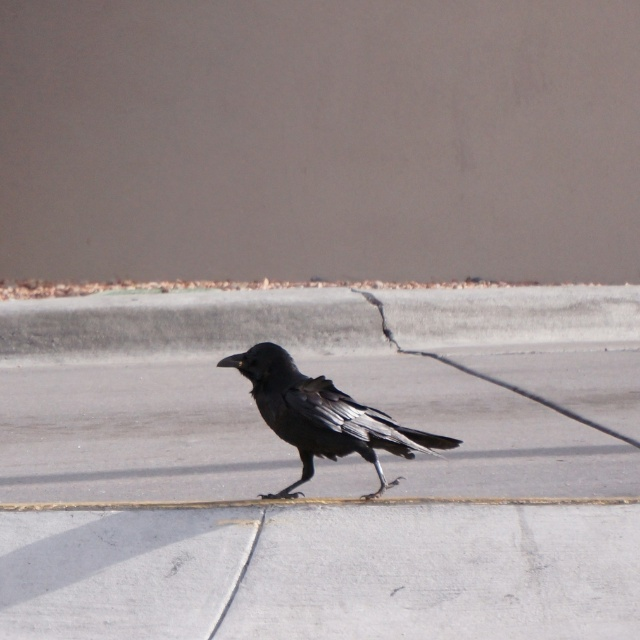Raven: (216, 344, 461, 498)
